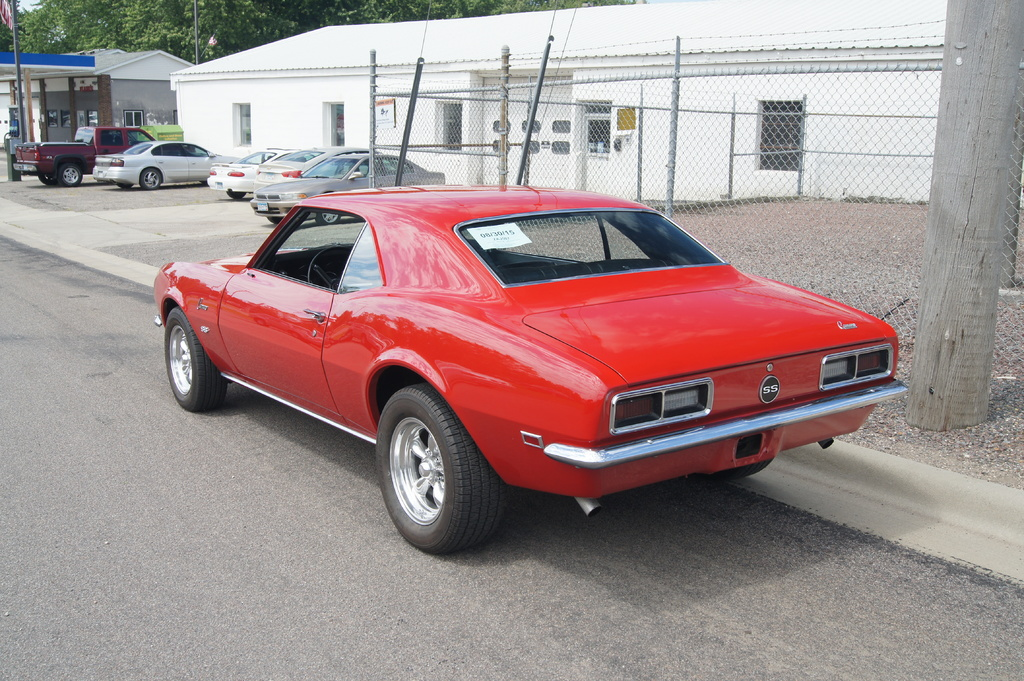Car: (150, 183, 910, 555), (247, 154, 446, 227), (92, 140, 240, 190), (250, 146, 382, 192), (207, 149, 302, 202)
